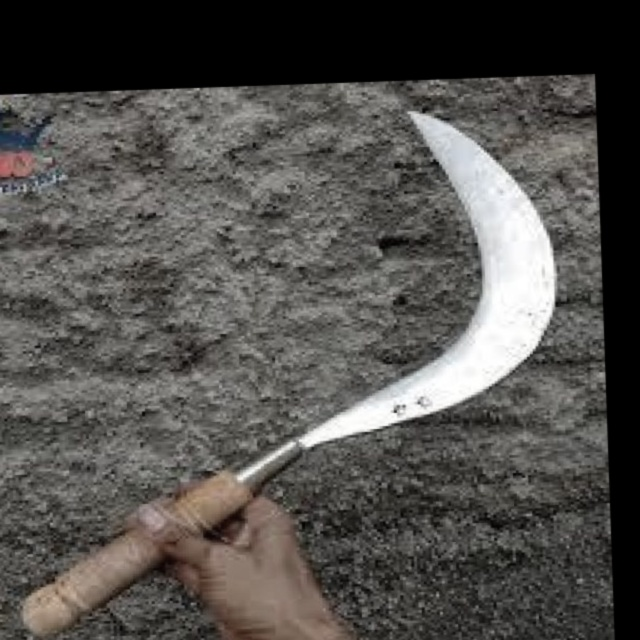Sharp-Object: (0, 93, 575, 640)
